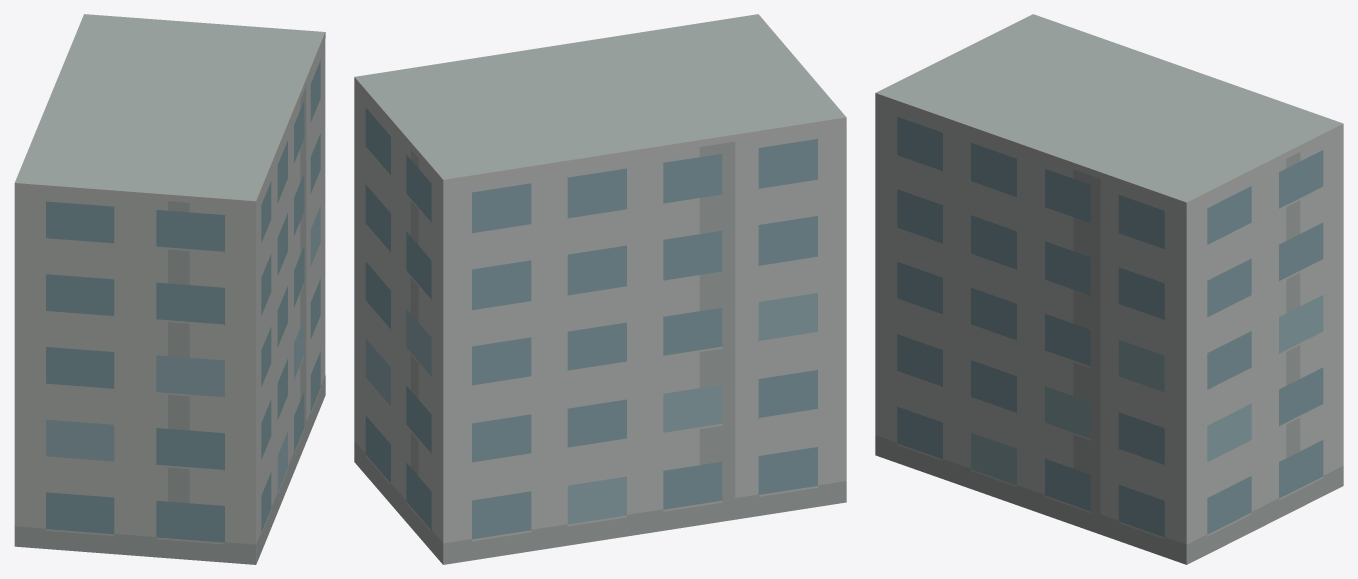
Rendered from survey-upis-32987557.glb.
3 views of the same model, side by side, from view 1: azimuth 30°, elevation 25°; view 2: azimuth 150°, elevation 25°; view 3: azimuth 270°, elevation 25° (orthographic). The views are drawn at different scales.
Parts seen in each view (by area): view 1: survey-upis-32987557.tmp; view 2: survey-upis-32987557.tmp; view 3: survey-upis-32987557.tmp.
Boxes of the visible parts, x1,y1,x2,y2 form: survey-upis-32987557.tmp: (14,14,325,564); survey-upis-32987557.tmp: (354,14,846,564); survey-upis-32987557.tmp: (875,14,1343,564).
Bounding box in the file's own units: 15.07 × 13.5 × 15.81.
